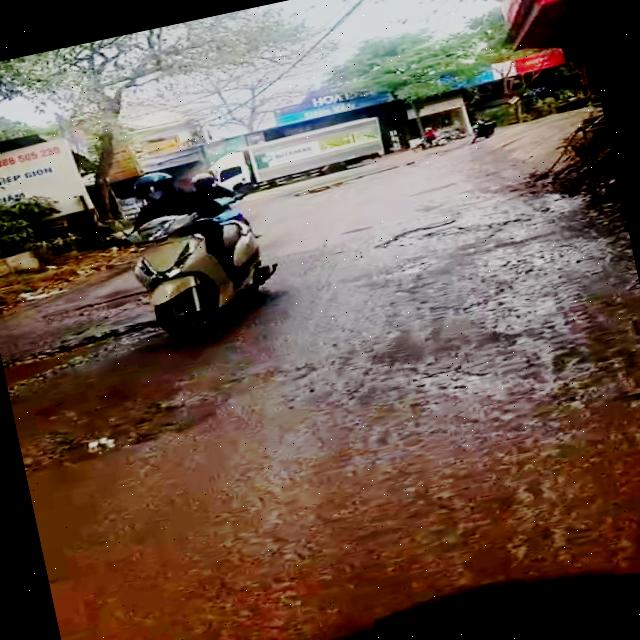pothole: (15, 382, 231, 481), (0, 315, 164, 388), (361, 198, 538, 260), (74, 284, 148, 317)
